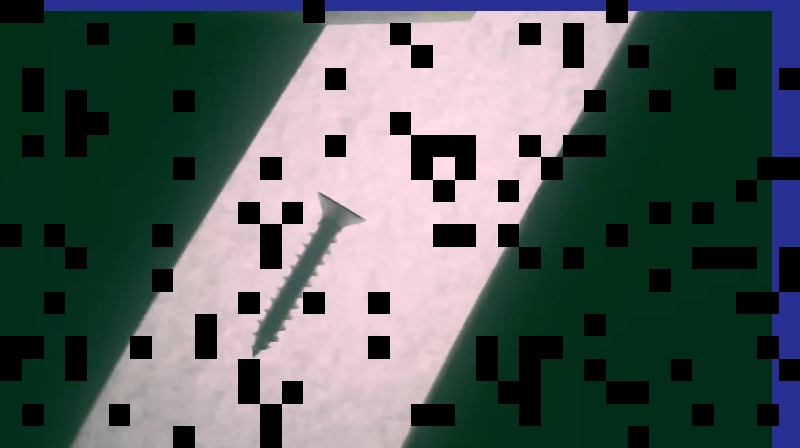S001: (241, 187, 369, 357)
